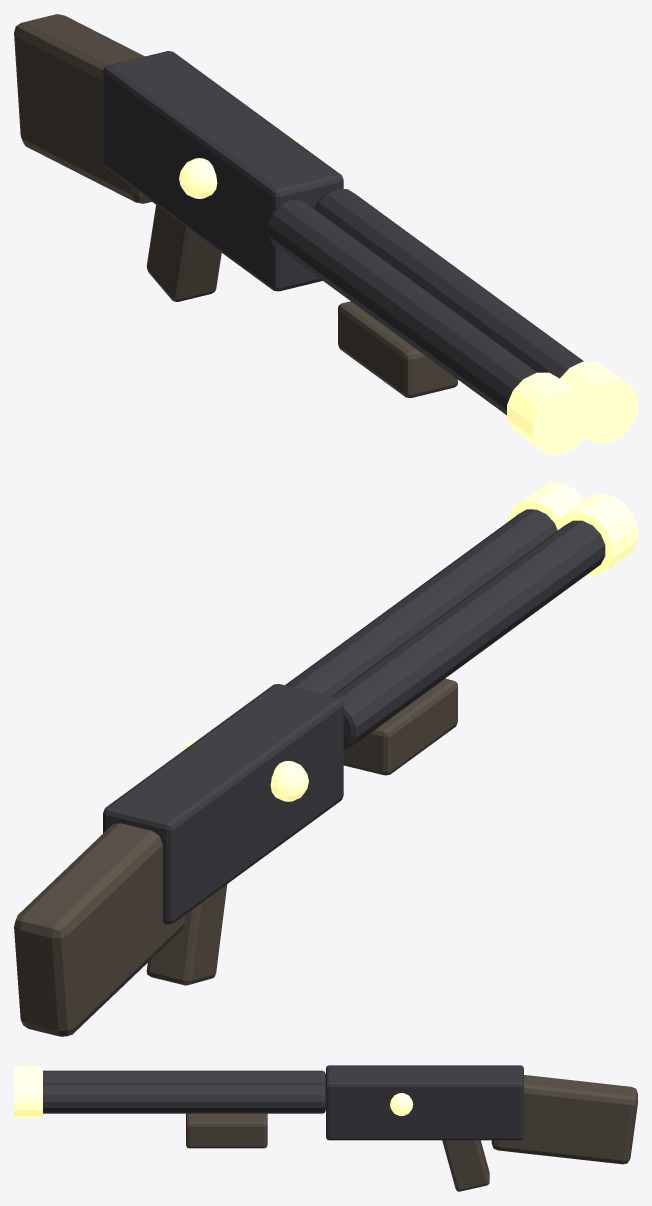
File: scattergun.glb
3 views of the same model, one above another, from view 1: azimuth 30°, elevation 25°; view 2: azimuth 150°, elevation 25°; view 3: azimuth 270°, elevation 25° (orthographic). The views are drawn at different scales.
Parts seen in each view (by area): view 1: receiver, boreL, stock, boreR, pump, muzzleL, grip, muzzleR, cellL; view 2: receiver, stock, boreL, boreR, pump, grip, muzzleL, muzzleR, cellL; view 3: receiver, stock, boreR, boreL, pump, grip, muzzleR, cellR, muzzleL.
Boxes of the visible parts, x1,y1,x2,y2 form: receiver: (103,51,343,291); boreL: (267,200,537,414); stock: (14,14,151,203); boreR: (315,189,583,378); pump: (338,301,457,397); muzzleL: (507,372,591,454); grip: (146,205,221,301); muzzleR: (560,361,637,443); cellL: (179,158,217,198); receiver: (103,684,343,924); stock: (14,823,186,1036); boreL: (331,520,605,749); boreR: (285,509,557,696); pump: (343,678,457,775); grip: (146,884,227,985); muzzleL: (556,494,637,576); muzzleR: (507,483,585,529); cellL: (270,761,308,801); receiver: (326,1065,523,1140); stock: (491,1075,637,1164); boreR: (43,1083,325,1113); boreL: (43,1070,325,1086); pump: (186,1113,267,1148); grip: (442,1140,489,1191); muzzleR: (14,1079,42,1118); cellR: (390,1093,413,1116); muzzleL: (14,1066,42,1078).
Size of the model in its own units: 0.14 by 0.2142 by 1.07.
